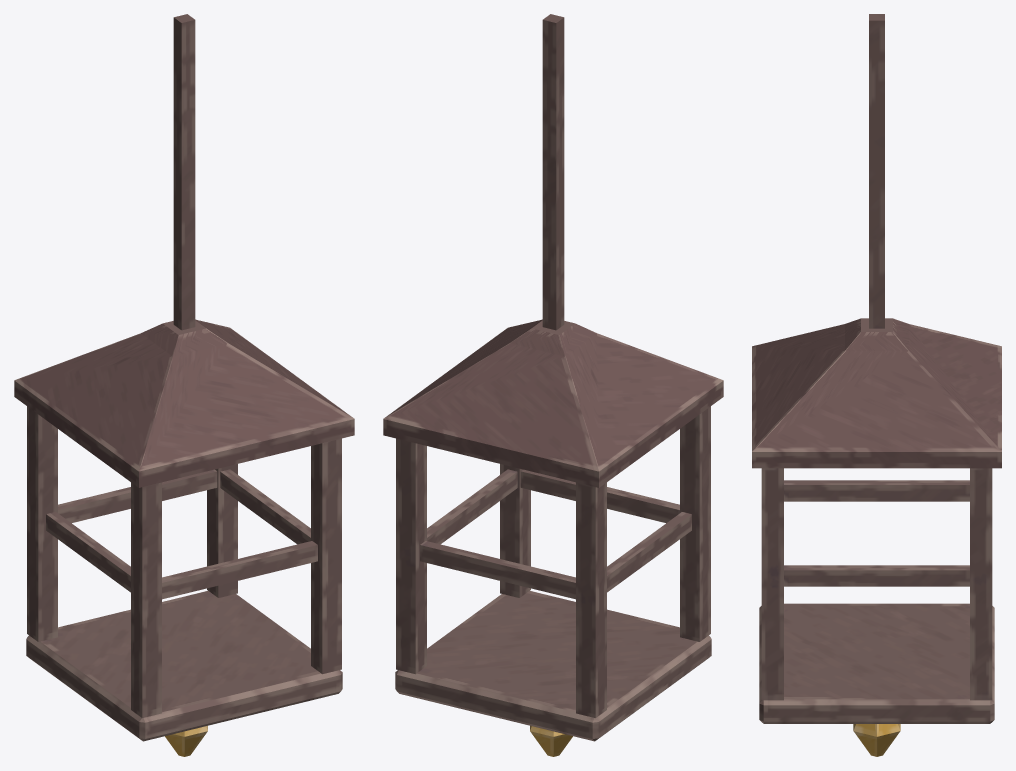
The model's file is lantern_body.fbx.
The picture shows the model from 3 angles, left to right: view 1: azimuth 30°, elevation 25°; view 2: azimuth 150°, elevation 25°; view 3: azimuth 270°, elevation 25°; orthographic projection.
Parts seen in each view (by area): view 1: lantern_body; view 2: lantern_body; view 3: lantern_body.
Boxes of the visible parts, <box> form: lantern_body: <box>14,14,354,756</box>; lantern_body: <box>383,14,723,756</box>; lantern_body: <box>752,14,1001,756</box>.
Bounding box in the file's own units: 1.1 × 3.59 × 1.1.
